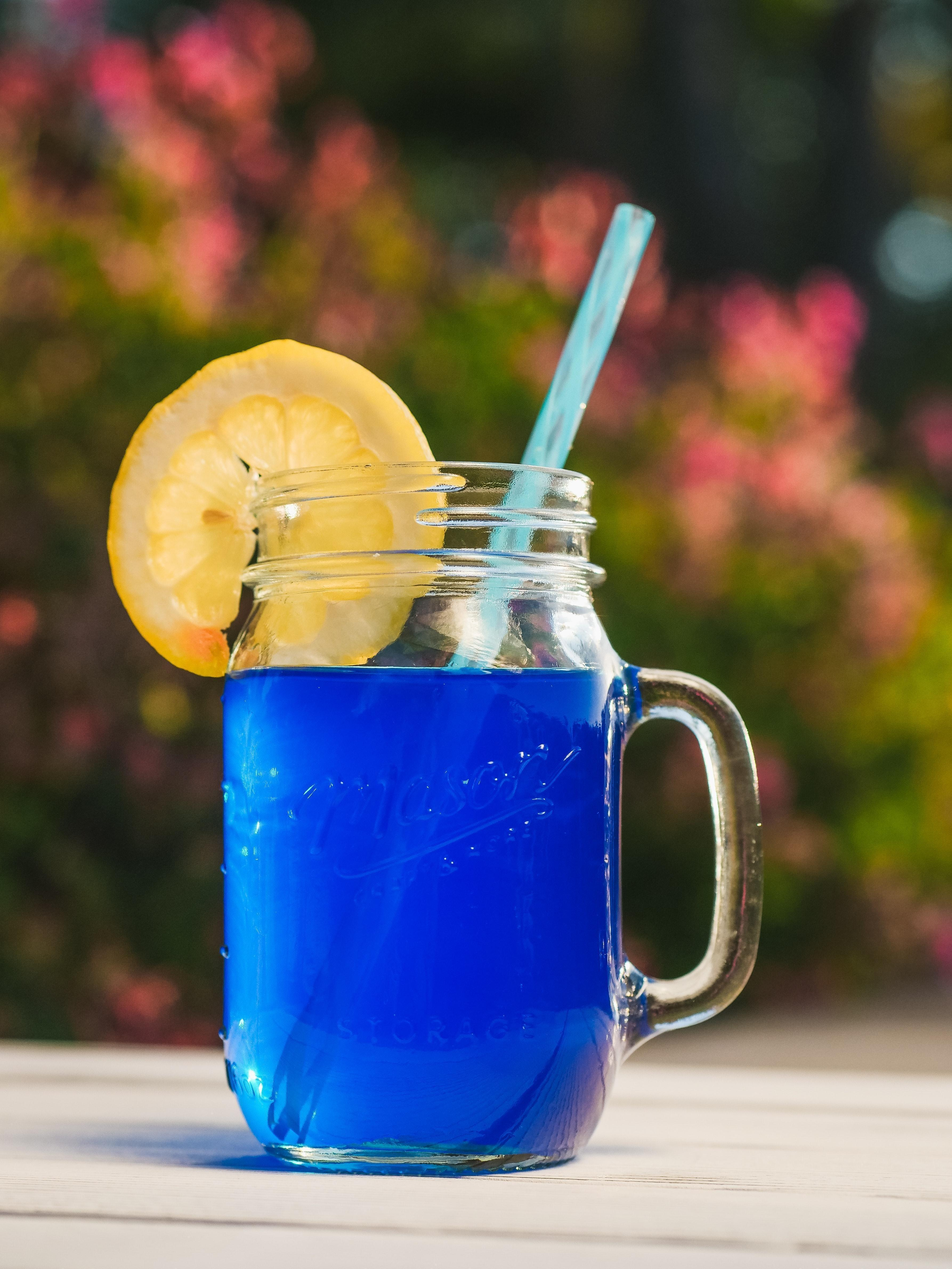glass-mug: (209, 451, 776, 1186)
